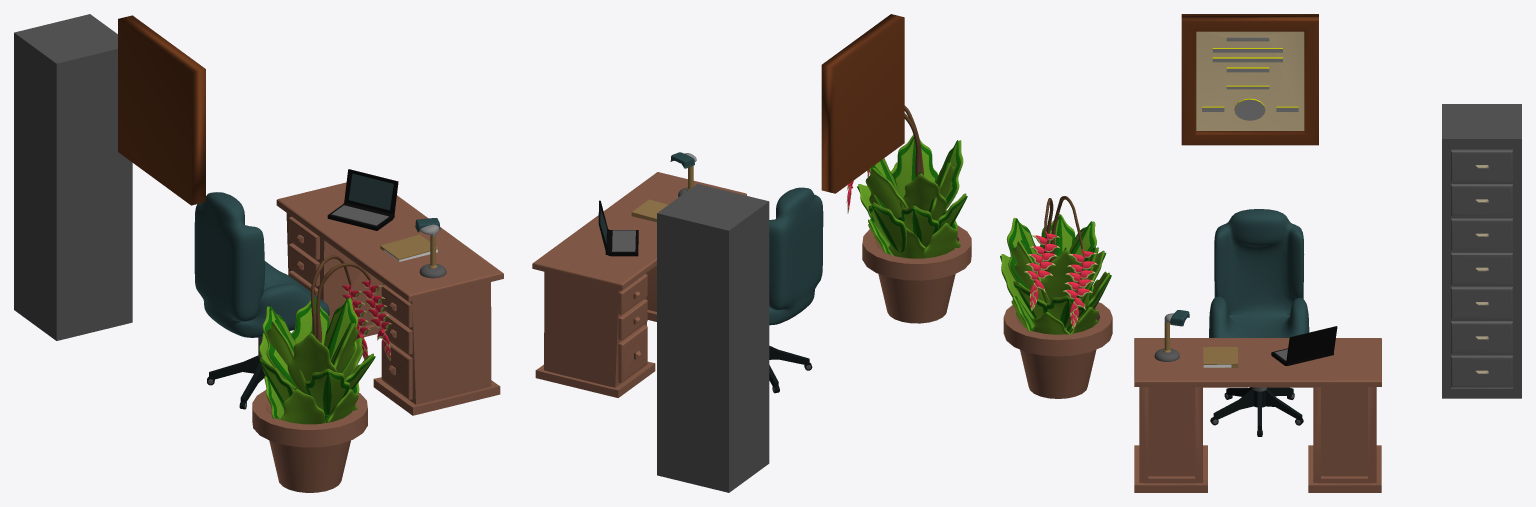
Rendered from Sala Supervisor.fbx.
The picture shows the model from 3 angles, left to right: view 1: azimuth 30°, elevation 25°; view 2: azimuth 150°, elevation 25°; view 3: azimuth 270°, elevation 25°; orthographic projection. The views are drawn at different scales.
Visible parts, largest first — view 1: Cube.086, Cube.067, Cylinder.020, Cube.085, Cube.088, Circle.014, Cube.068, Cylinder.008, Cube.083, Circle.013; view 2: Cube.086, Cube.067, Cube.085, Cylinder.020, Cube.088, Circle.014, Cube.068, Cylinder.008, Cube.083; view 3: Cube.067, Cube.085, Cube.087, Cube.088, Cylinder.020, Cube.086, Circle.014, Cylinder.008, Cube.068, Cube.083.
Boxes of the visible parts, box(x1,y1,x2,y2) form: Cube.086: box(14, 14, 132, 340); Cube.067: box(276, 182, 503, 415); Cylinder.020: box(259, 255, 391, 424); Cube.085: box(118, 15, 205, 205); Cube.088: box(194, 192, 329, 337); Circle.014: box(252, 390, 367, 492); Cube.068: box(327, 169, 398, 230); Cylinder.008: box(207, 337, 265, 409); Cube.083: box(380, 234, 438, 261); Circle.013: box(419, 224, 446, 278); Cube.086: box(657, 184, 769, 492); Cube.067: box(532, 172, 746, 397); Cube.085: box(821, 14, 904, 193); Cylinder.020: box(846, 105, 967, 258); Cube.088: box(769, 187, 823, 325); Circle.014: box(862, 225, 971, 323); Cube.068: box(598, 200, 638, 256); Cylinder.008: box(769, 345, 812, 393); Cube.083: box(631, 199, 668, 222); Cube.067: box(1134, 338, 1381, 492); Cube.085: box(1181, 14, 1318, 145); Cube.087: box(1451, 149, 1512, 387); Cube.088: box(1209, 209, 1309, 337); Cylinder.020: box(1000, 196, 1111, 334); Cube.086: box(1442, 104, 1521, 398); Circle.014: box(1003, 302, 1112, 398); Cylinder.008: box(1210, 387, 1303, 436); Cube.068: box(1271, 326, 1337, 365); Cube.083: box(1203, 347, 1238, 367).
Bounding box in the file's own units: 1549 × 1927 × 2601.
